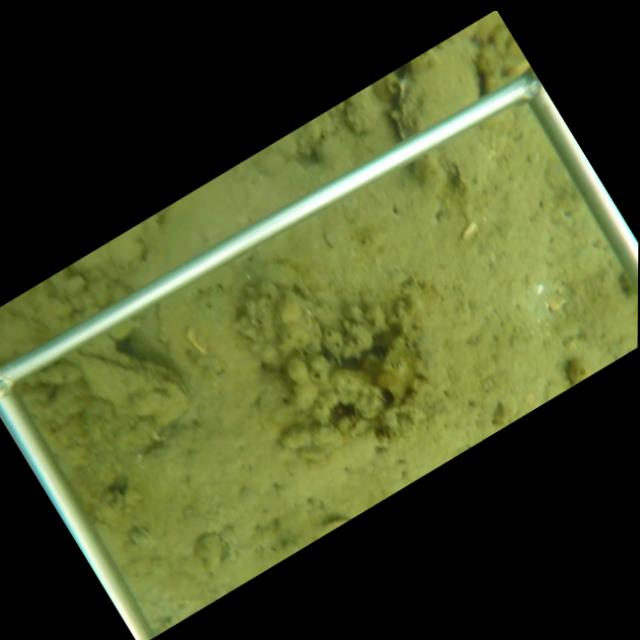Oyster-Closed: (394, 35, 487, 141), (79, 352, 191, 429)
